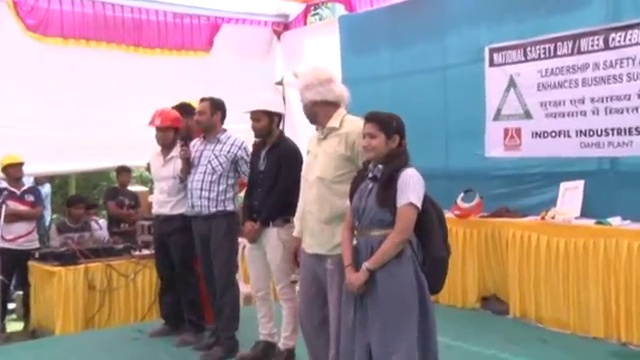helmet: (237, 94, 286, 117), (146, 107, 183, 131), (0, 153, 26, 173)
helmet_off: (359, 108, 417, 178), (289, 67, 348, 120), (192, 99, 228, 137), (65, 195, 89, 226), (115, 165, 132, 192)
helmet_on: (240, 93, 286, 145), (144, 104, 183, 159), (0, 153, 28, 191)
person: (336, 101, 449, 360), (287, 64, 365, 360), (183, 96, 251, 353), (237, 94, 301, 360), (142, 104, 199, 350), (0, 153, 47, 346), (45, 191, 109, 255), (98, 165, 143, 251)
